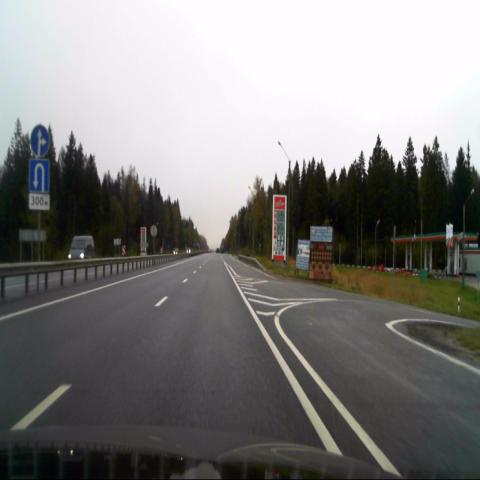4_1_4: (30, 124, 49, 157)
6_3_1: (29, 160, 48, 194)
8_1_1: (28, 194, 50, 210)
